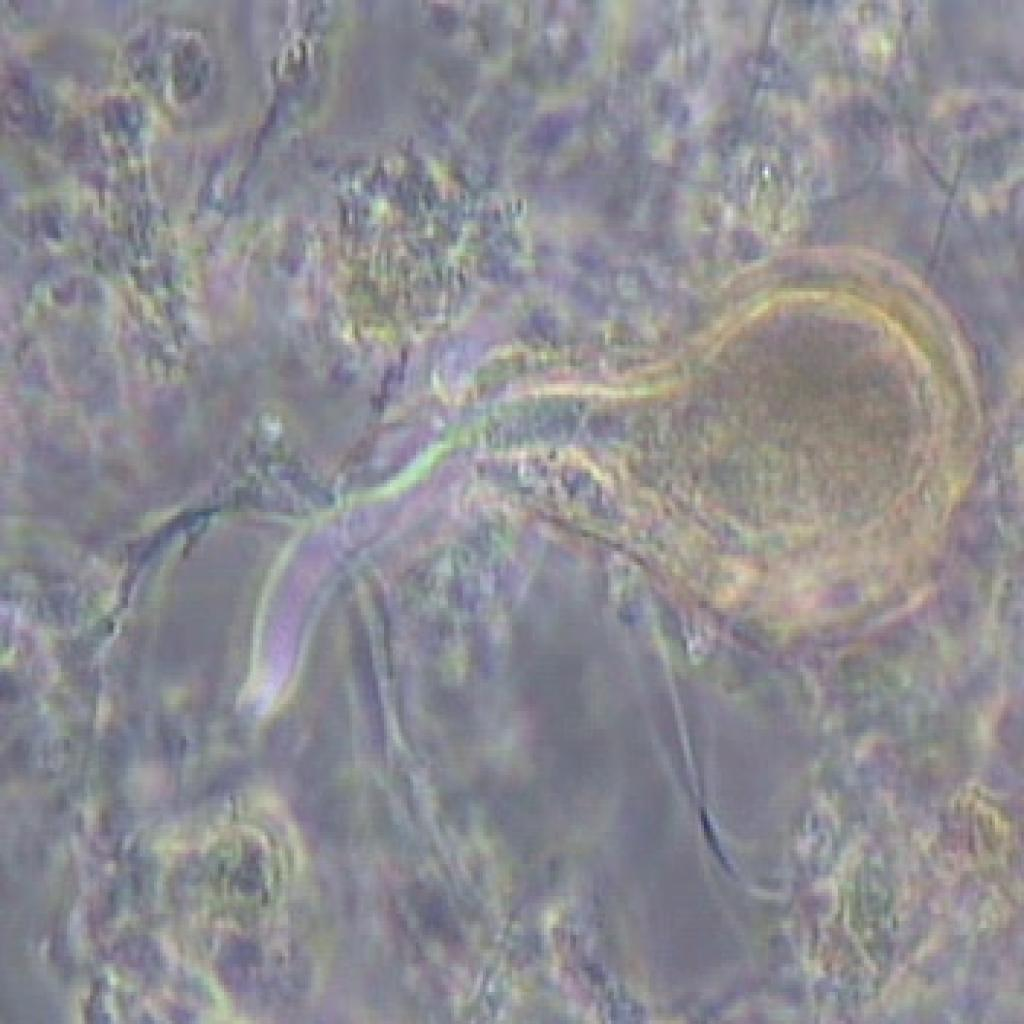Chaetopira: (326, 245, 977, 672)
